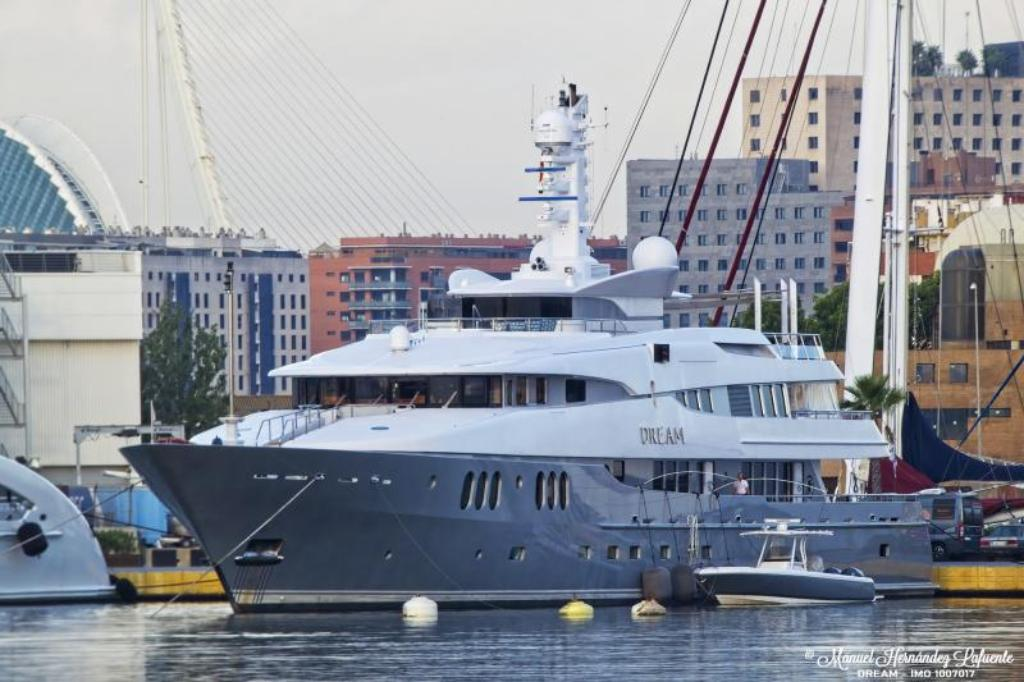PassengerShip: (116, 77, 942, 621)
